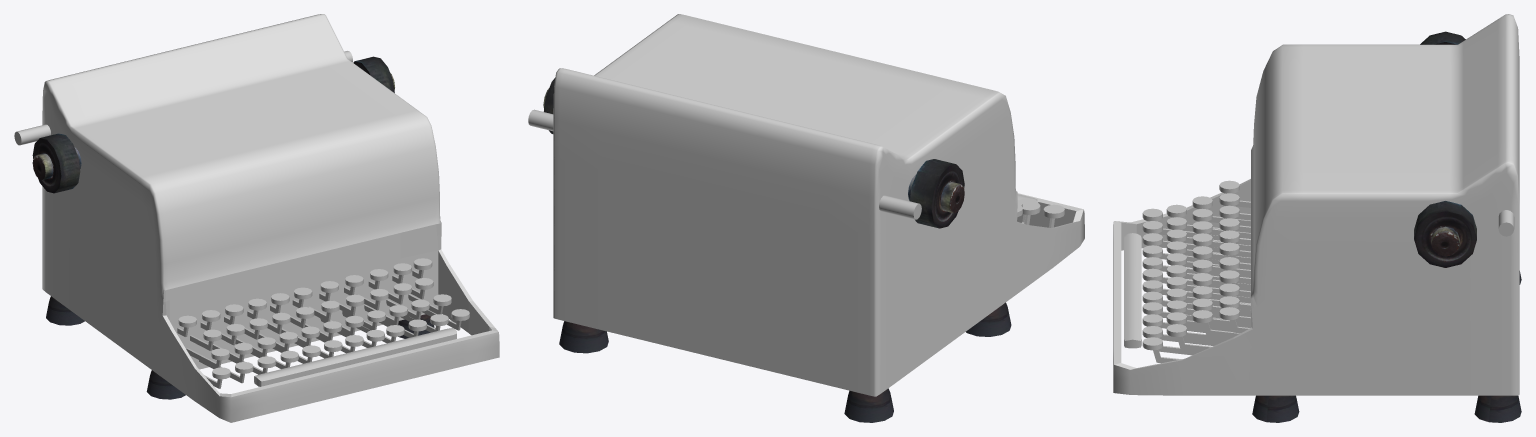
File: maquina de escribir.fbx
3 views of the same model, side by side, from view 1: azimuth 30°, elevation 25°; view 2: azimuth 150°, elevation 25°; view 3: azimuth 270°, elevation 25° (orthographic). The views are drawn at different scales.
Visible parts, largest first — view 1: Box001, Box049, Cylinder002, Cylinder011, Cylinder004, Cylinder008, Cylinder001; view 2: Box001, Cylinder002, Cylinder008, Cylinder010, Cylinder001, Cylinder004; view 3: Box001, Cylinder011, Box049, Cylinder010, Cylinder009, Box039, Box027, Box016, Box028, Box026, Box038, Box017 (+17 smaller).
Boxes of the visible parts, box(x1,y1,x2,y2) form: Box001: box(42, 14, 499, 422); Box049: box(254, 328, 456, 386); Cylinder002: box(32, 133, 81, 193); Cylinder011: box(353, 56, 394, 92); Cylinder004: box(146, 370, 185, 399); Cylinder008: box(46, 296, 84, 325); Cylinder001: box(14, 51, 352, 145); Box001: box(553, 14, 1084, 396); Cylinder002: box(908, 159, 964, 228); Cylinder008: box(844, 388, 893, 422); Cylinder010: box(559, 321, 608, 353); Cylinder001: box(528, 109, 921, 219); Cylinder004: box(966, 302, 1011, 336); Box001: box(1113, 14, 1519, 395); Cylinder011: box(1414, 201, 1476, 267); Box049: box(1124, 233, 1141, 348); Cylinder010: box(1474, 395, 1521, 422); Cylinder009: box(1252, 395, 1299, 422); Box039: box(1142, 314, 1221, 345); Box027: box(1166, 312, 1230, 341); Box016: box(1192, 310, 1240, 338); Box028: box(1166, 300, 1232, 331); Box026: box(1166, 324, 1211, 351); Box038: box(1142, 326, 1200, 355); Box017: box(1192, 298, 1250, 327).
Bounding box in the file's own units: 9.92 × 9.11 × 6.39.
